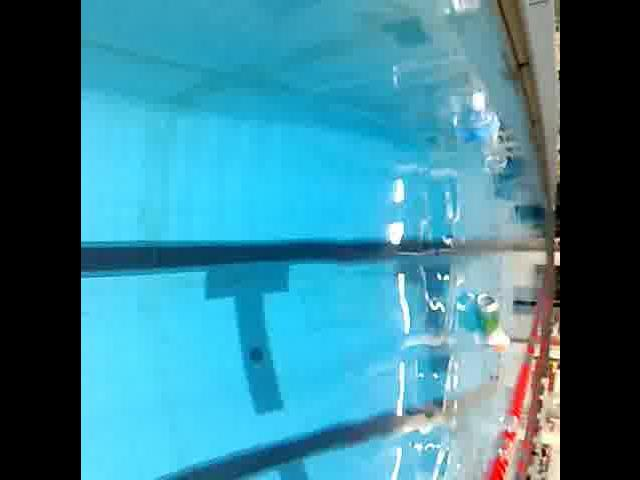Bottle: (462, 88, 512, 176), (441, 0, 487, 22), (489, 330, 512, 356)
Can: (470, 284, 500, 338)
